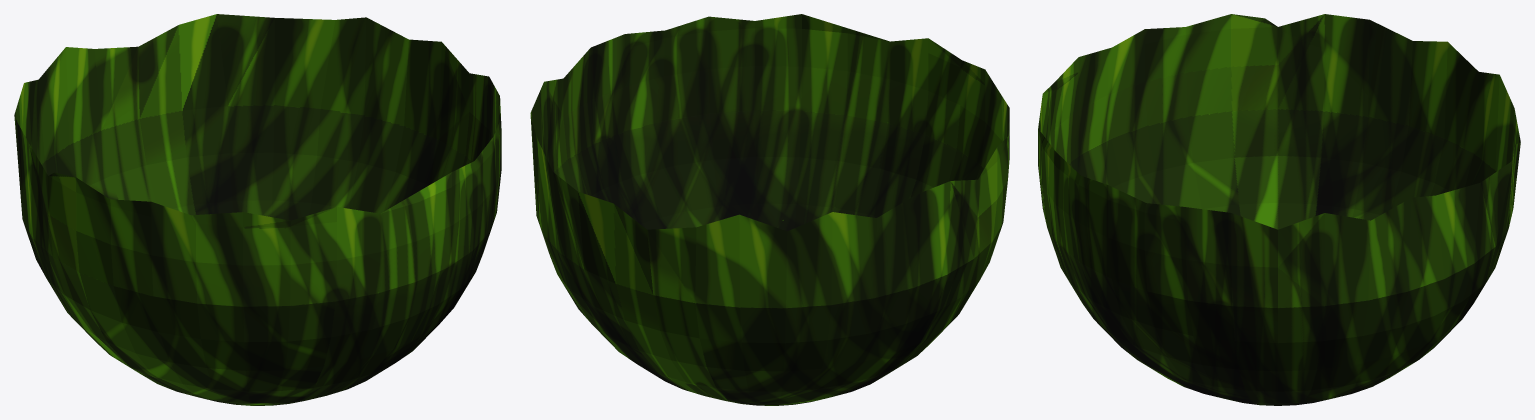
Rendered from Floorsphere.fbx.
The picture shows the model from 3 angles, left to right: view 1: azimuth 30°, elevation 25°; view 2: azimuth 150°, elevation 25°; view 3: azimuth 270°, elevation 25°; orthographic projection.
Visible parts, largest first — view 1: Sphere.001; view 2: Sphere.001; view 3: Sphere.001.
Part boxes in pixels (bbox=[...]): Sphere.001: bbox=[14, 14, 501, 405]; Sphere.001: bbox=[530, 14, 1009, 405]; Sphere.001: bbox=[1038, 14, 1520, 405].
Size of the model in its own units: 1731 by 1075 by 1739.
1 material, 1 textured.
